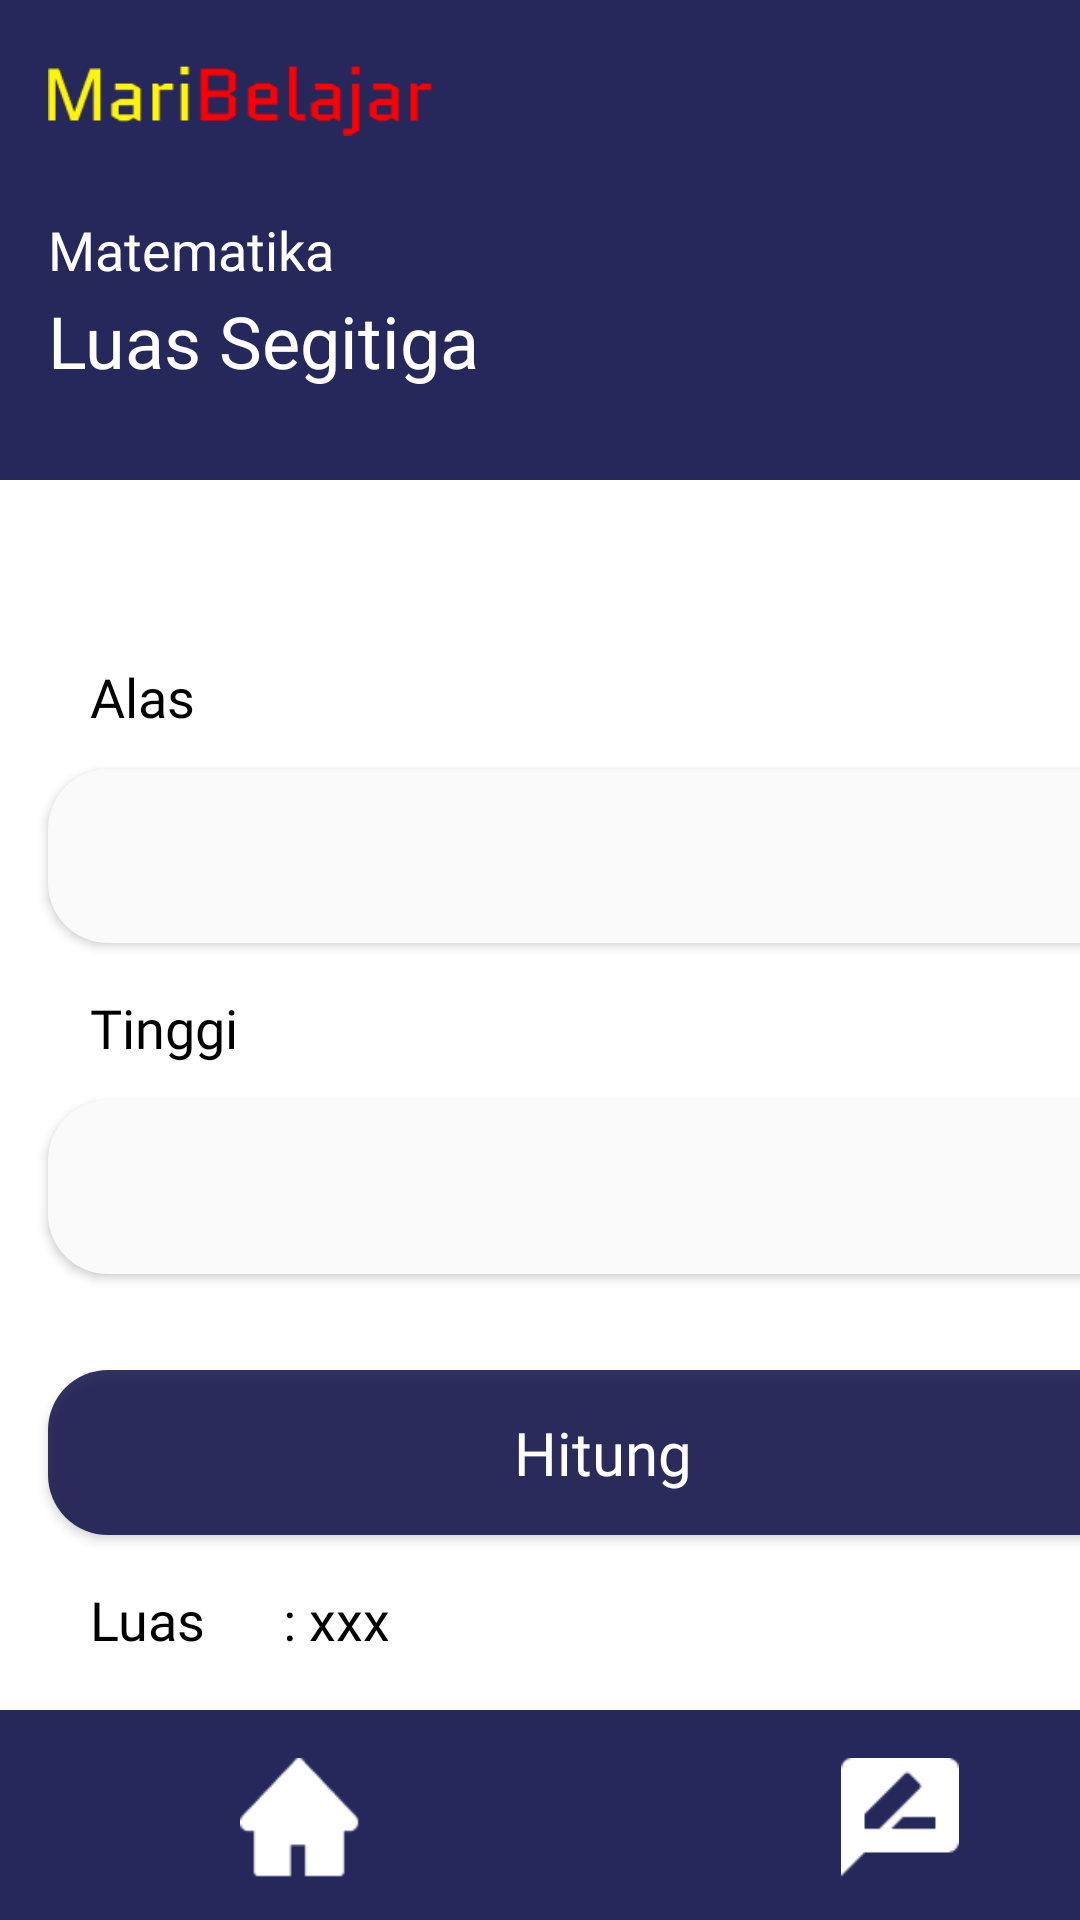

Named icons in this screenshot (1080px x 1920px) and their bounding boxes, (x1, y1, x2, y2):
home: (240, 1758, 359, 1877)
review: (841, 1758, 959, 1877)
